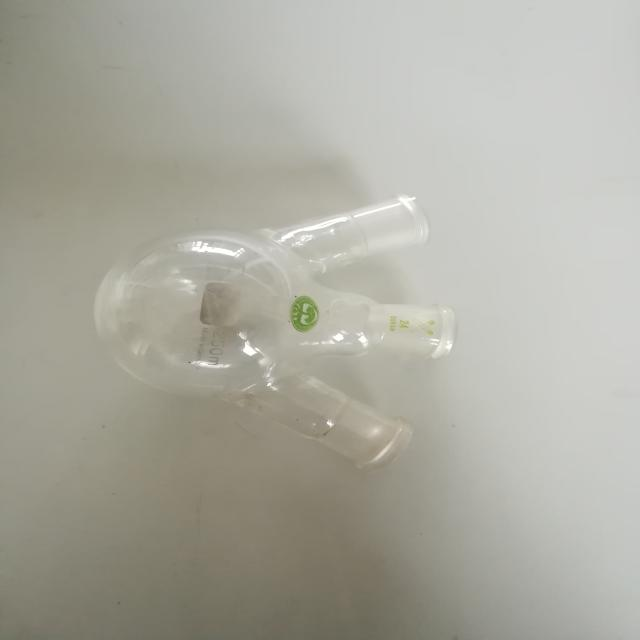Round_Bottom_Flask_Borosilicate_Glass_3_Neck: (50, 162, 492, 512)
